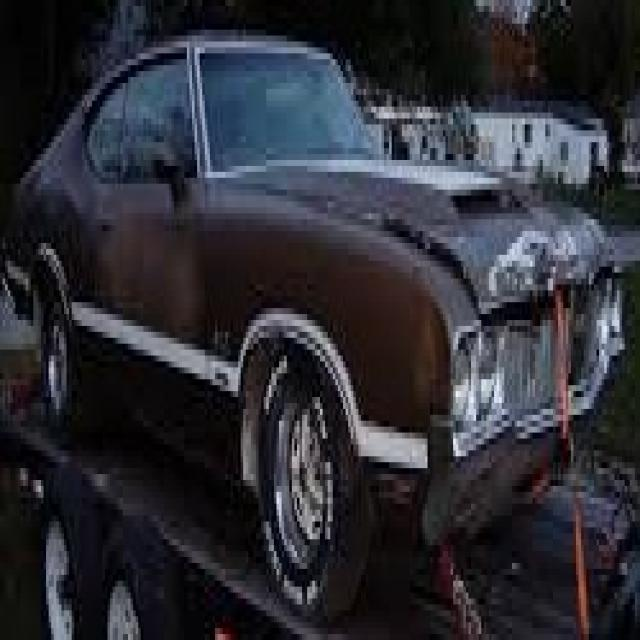moderate: (386, 128, 640, 362)
